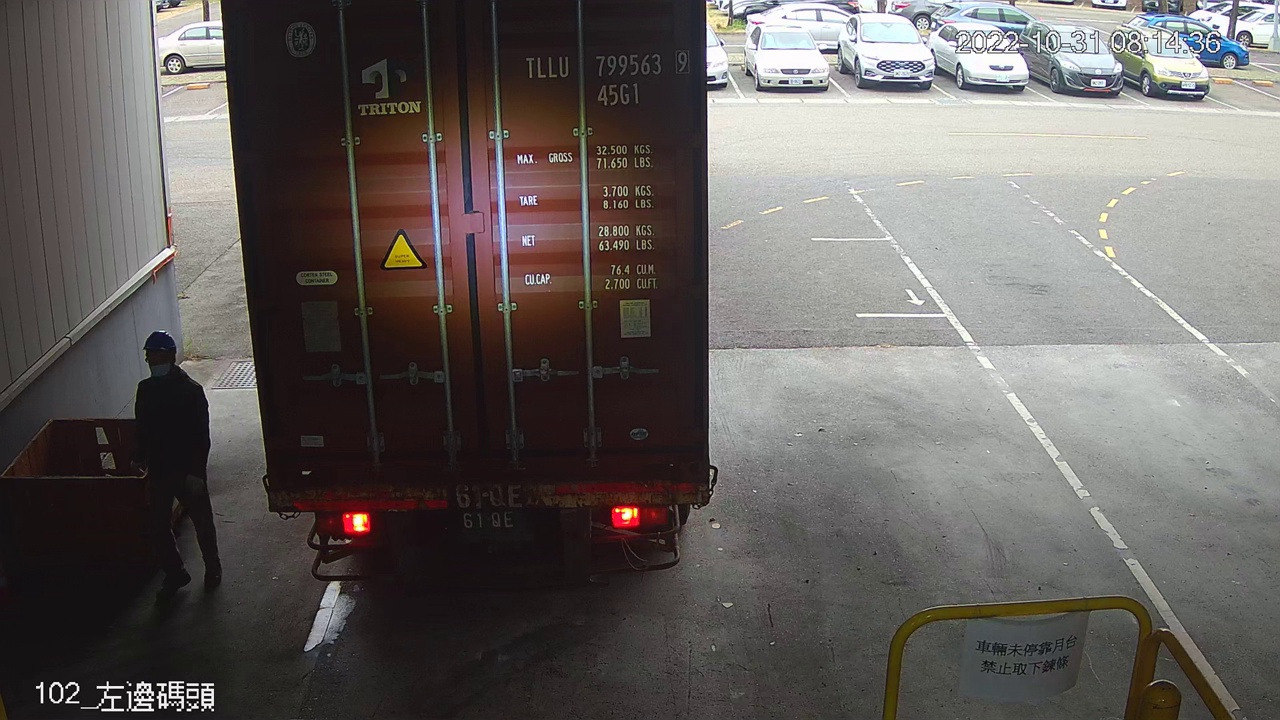container: (518, 45, 695, 110)
